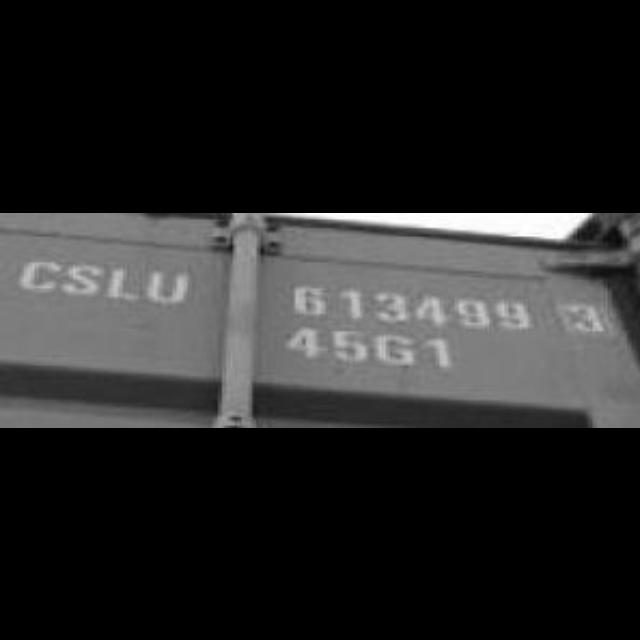1: (422, 334, 458, 374), (337, 282, 365, 324)
3: (560, 294, 604, 340), (372, 284, 410, 328)
4: (412, 287, 450, 333), (287, 324, 331, 360)
5: (332, 326, 370, 368)
6: (288, 279, 330, 321)
9: (492, 294, 536, 336), (453, 290, 492, 334)
c: (16, 254, 66, 296)
g: (375, 329, 417, 373)
l: (102, 260, 146, 306)
s: (60, 254, 110, 302)
u: (146, 266, 198, 310)
